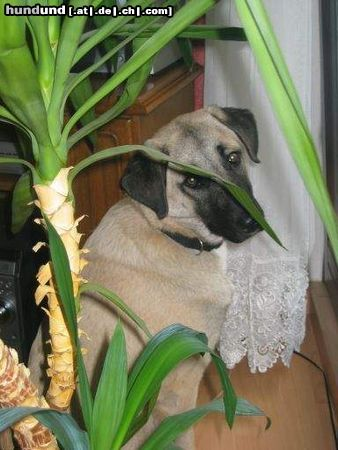kangal: (26, 103, 266, 448)
